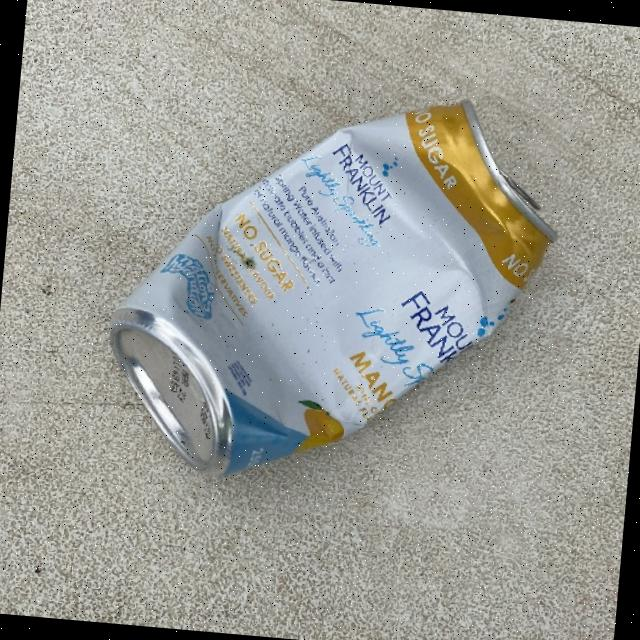metal: (95, 68, 569, 506)
